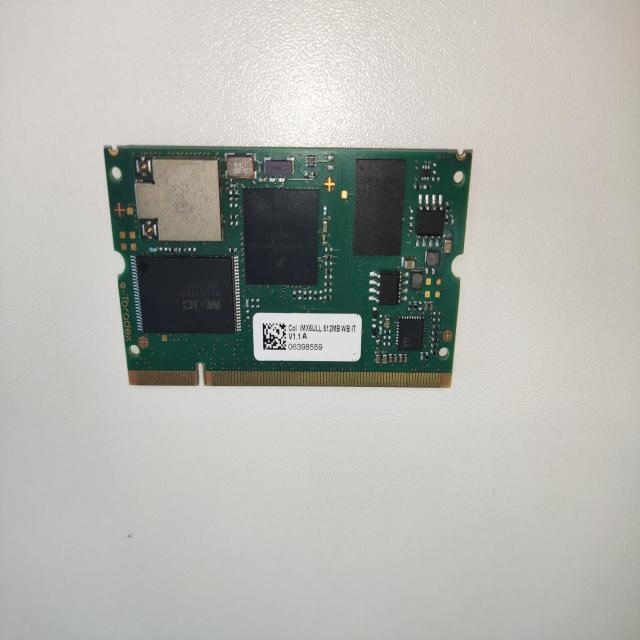som: (99, 137, 477, 399)
